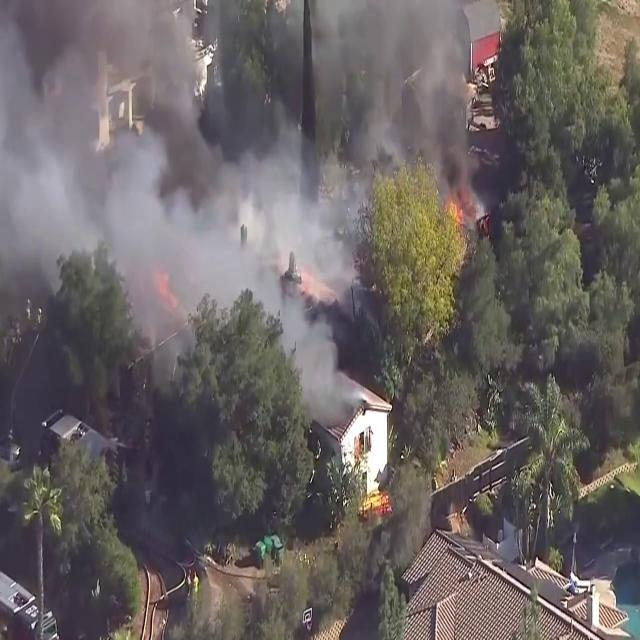Smoke: (0, 0, 477, 359)
